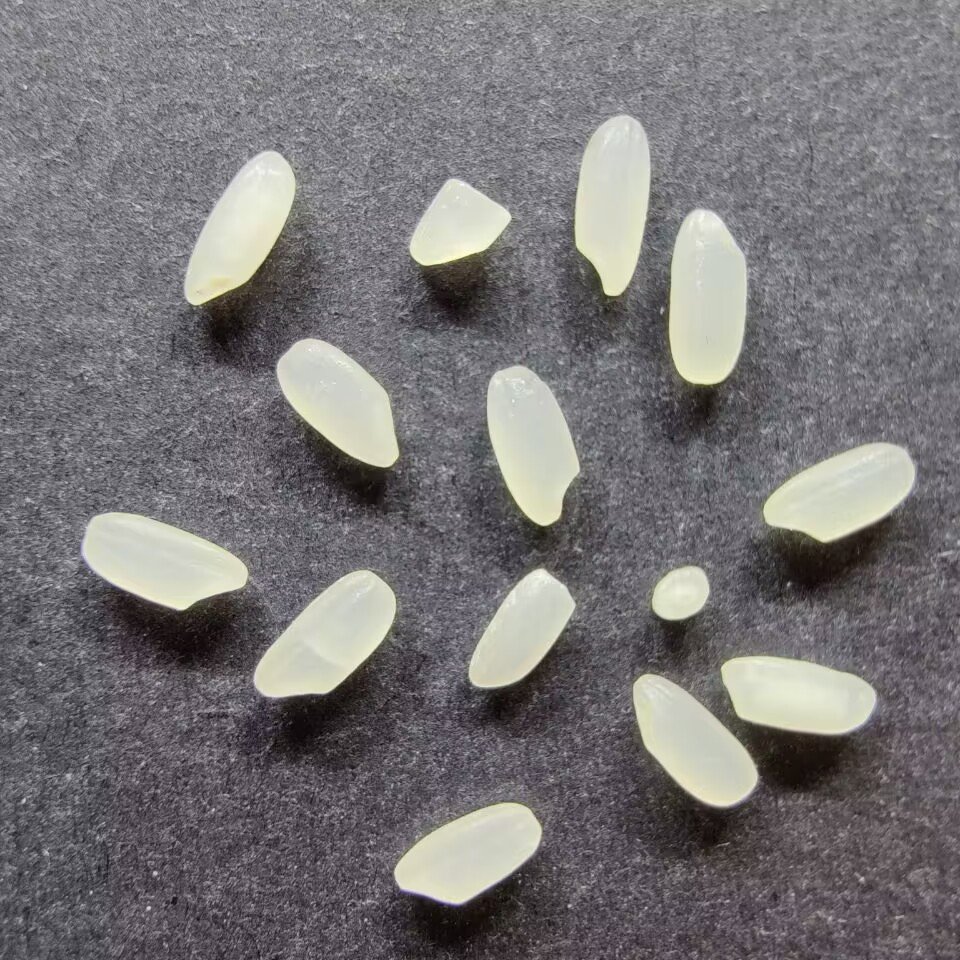broken: (407, 176, 515, 267), (650, 562, 711, 623)
rice: (251, 568, 397, 698), (629, 672, 762, 808), (183, 148, 296, 308), (79, 510, 249, 611), (273, 337, 399, 470), (483, 364, 583, 527), (761, 441, 917, 545), (392, 800, 543, 906), (571, 114, 652, 296), (666, 207, 747, 387), (467, 566, 576, 692), (719, 654, 878, 734)
